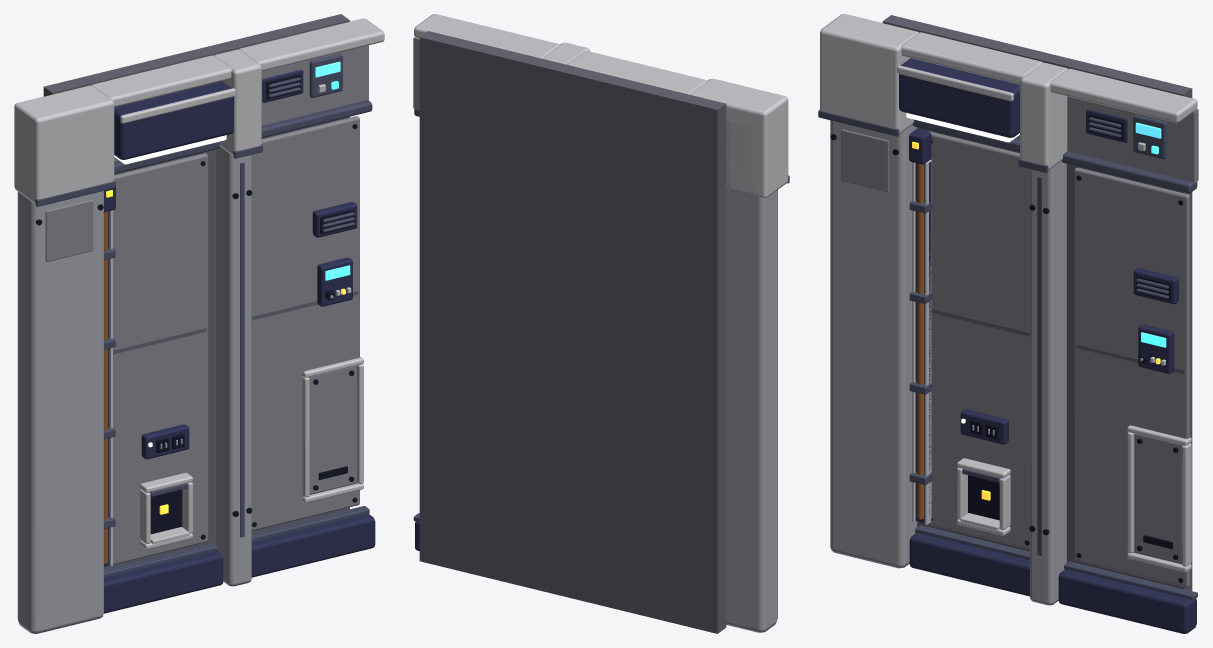
The model's file is int.wallbay.far.07.w1.glb.
The picture shows the model from 3 angles, left to right: view 1: azimuth 30°, elevation 25°; view 2: azimuth 150°, elevation 25°; view 3: azimuth 330°, elevation 25°; orthographic projection.
Visible parts, largest first — view 1: int.wallbay.far.07.w1; view 2: int.wallbay.far.07.w1; view 3: int.wallbay.far.07.w1.
Part boxes in pixels (x1,y1,x2,y2): int.wallbay.far.07.w1: (14, 14, 384, 633); int.wallbay.far.07.w1: (413, 14, 789, 633); int.wallbay.far.07.w1: (818, 14, 1198, 633).
Bounding box in the file's own units: 1.19 × 1.68 × 0.214.
